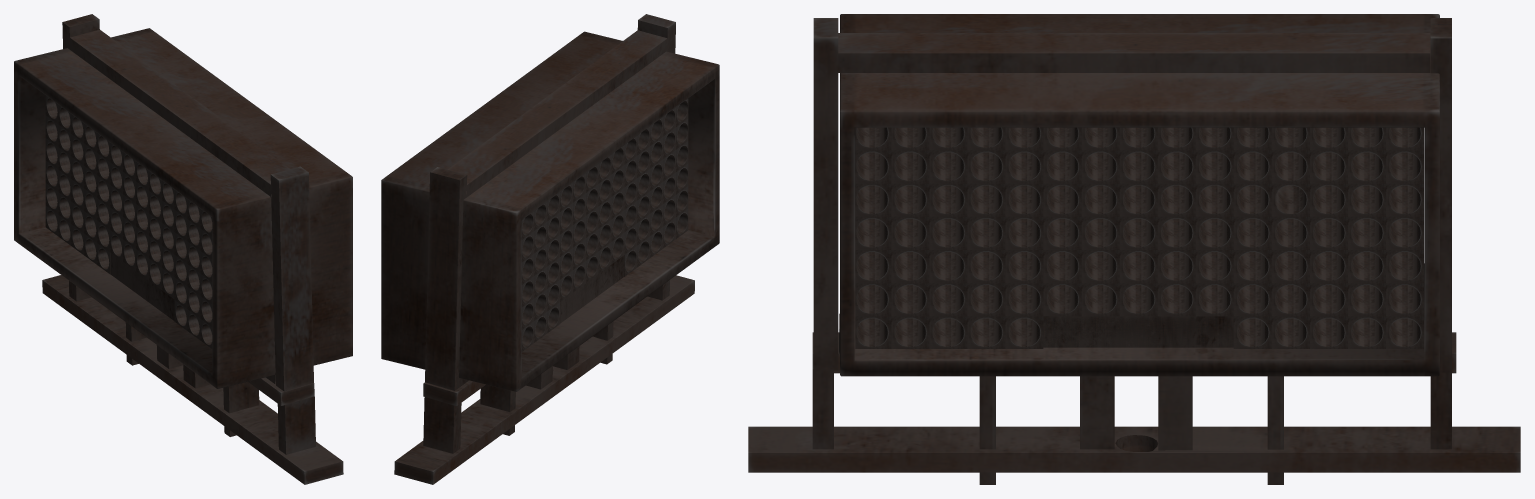
File: SM_Hwacha_Launchpad.fbx
The picture shows the model from 3 angles, left to right: view 1: azimuth 30°, elevation 25°; view 2: azimuth 150°, elevation 25°; view 3: azimuth 270°, elevation 25°; orthographic projection. The views are drawn at different scales.
Parts seen in each view (by area): view 1: SM_Hwacha_Launchpad; view 2: SM_Hwacha_Launchpad; view 3: SM_Hwacha_Launchpad.
Boxes of the visible parts, box(x1,y1,x2,y2) form: SM_Hwacha_Launchpad: box(14, 14, 352, 484); SM_Hwacha_Launchpad: box(381, 14, 719, 484); SM_Hwacha_Launchpad: box(748, 14, 1520, 484).
Size of the model in its own units: 34.68 by 116 by 73.09.
1 material, 1 textured.
